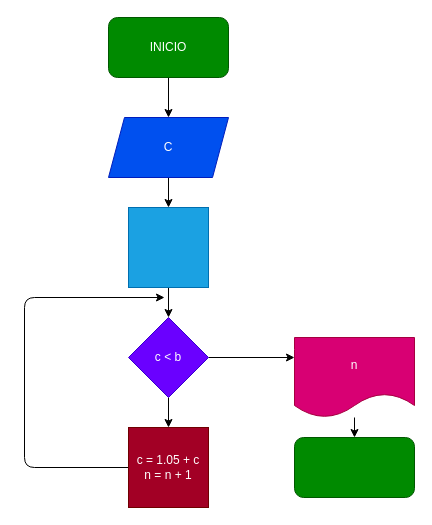
Some shapes in this 432 by 525 pixel diagram are drawn without their labels. Here are the shapes that lost their labels. From the top down, the box of each, then its label:
(128, 206, 208, 288): b = 2 c n = 0
(294, 436, 414, 498): FIN
